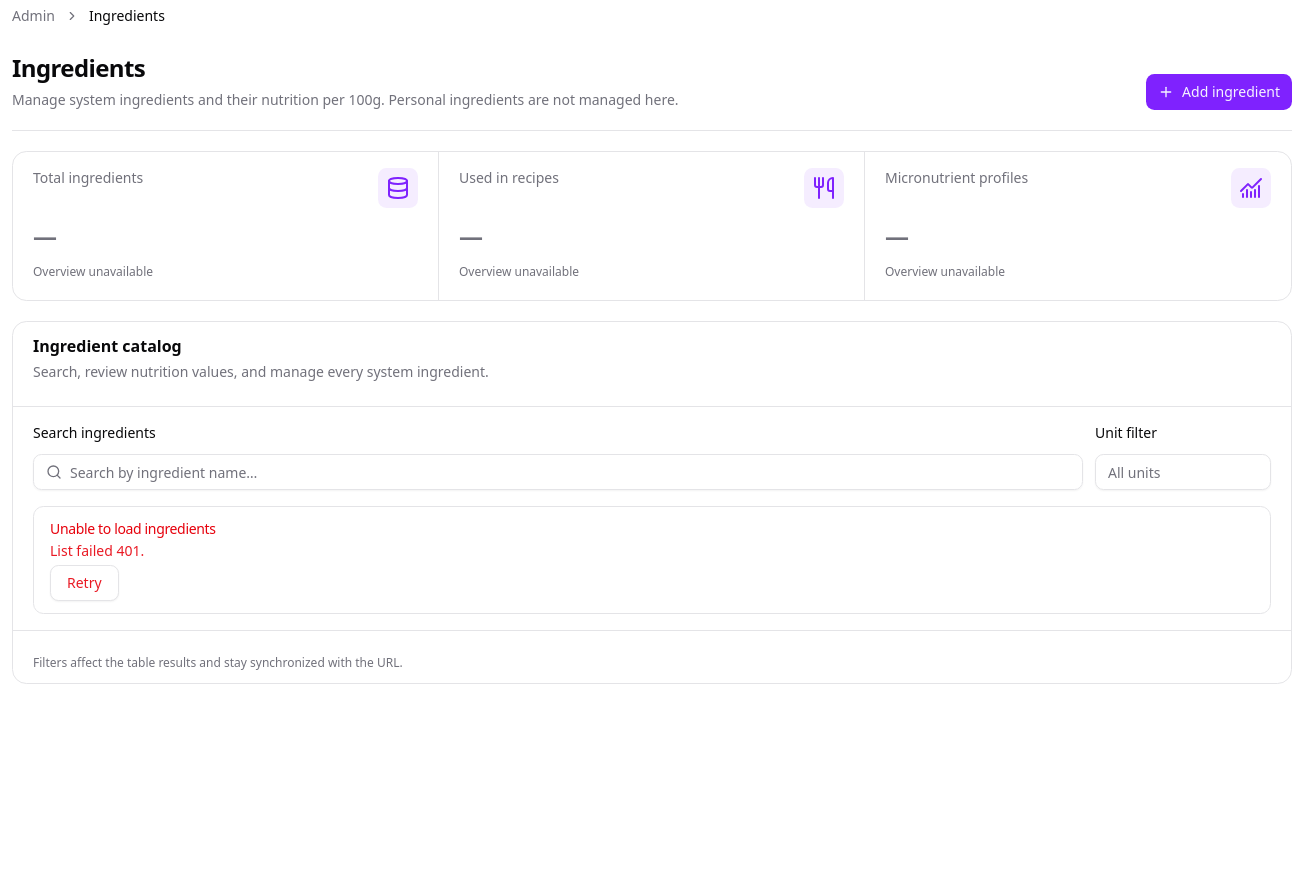
IngredientsPage › shows 401 errors and retries without synthetic success
The width and height of the screenshot is (1292, 886).
Click the button "Retry": click(84, 583) left=50, top=565, right=119, bottom=601
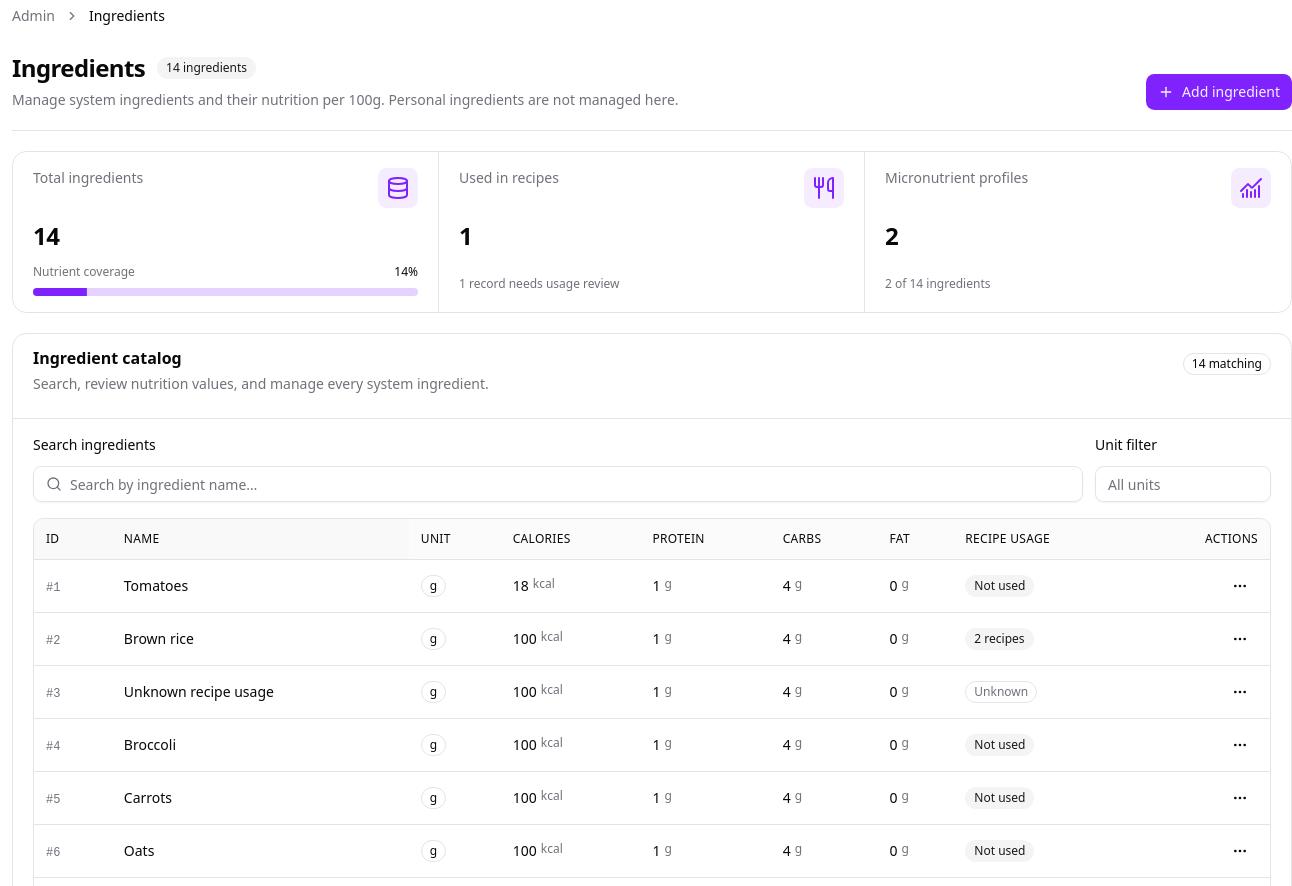
expect the text "Tomatoes" is shown: met, box left=124, top=576, right=188, bottom=595
